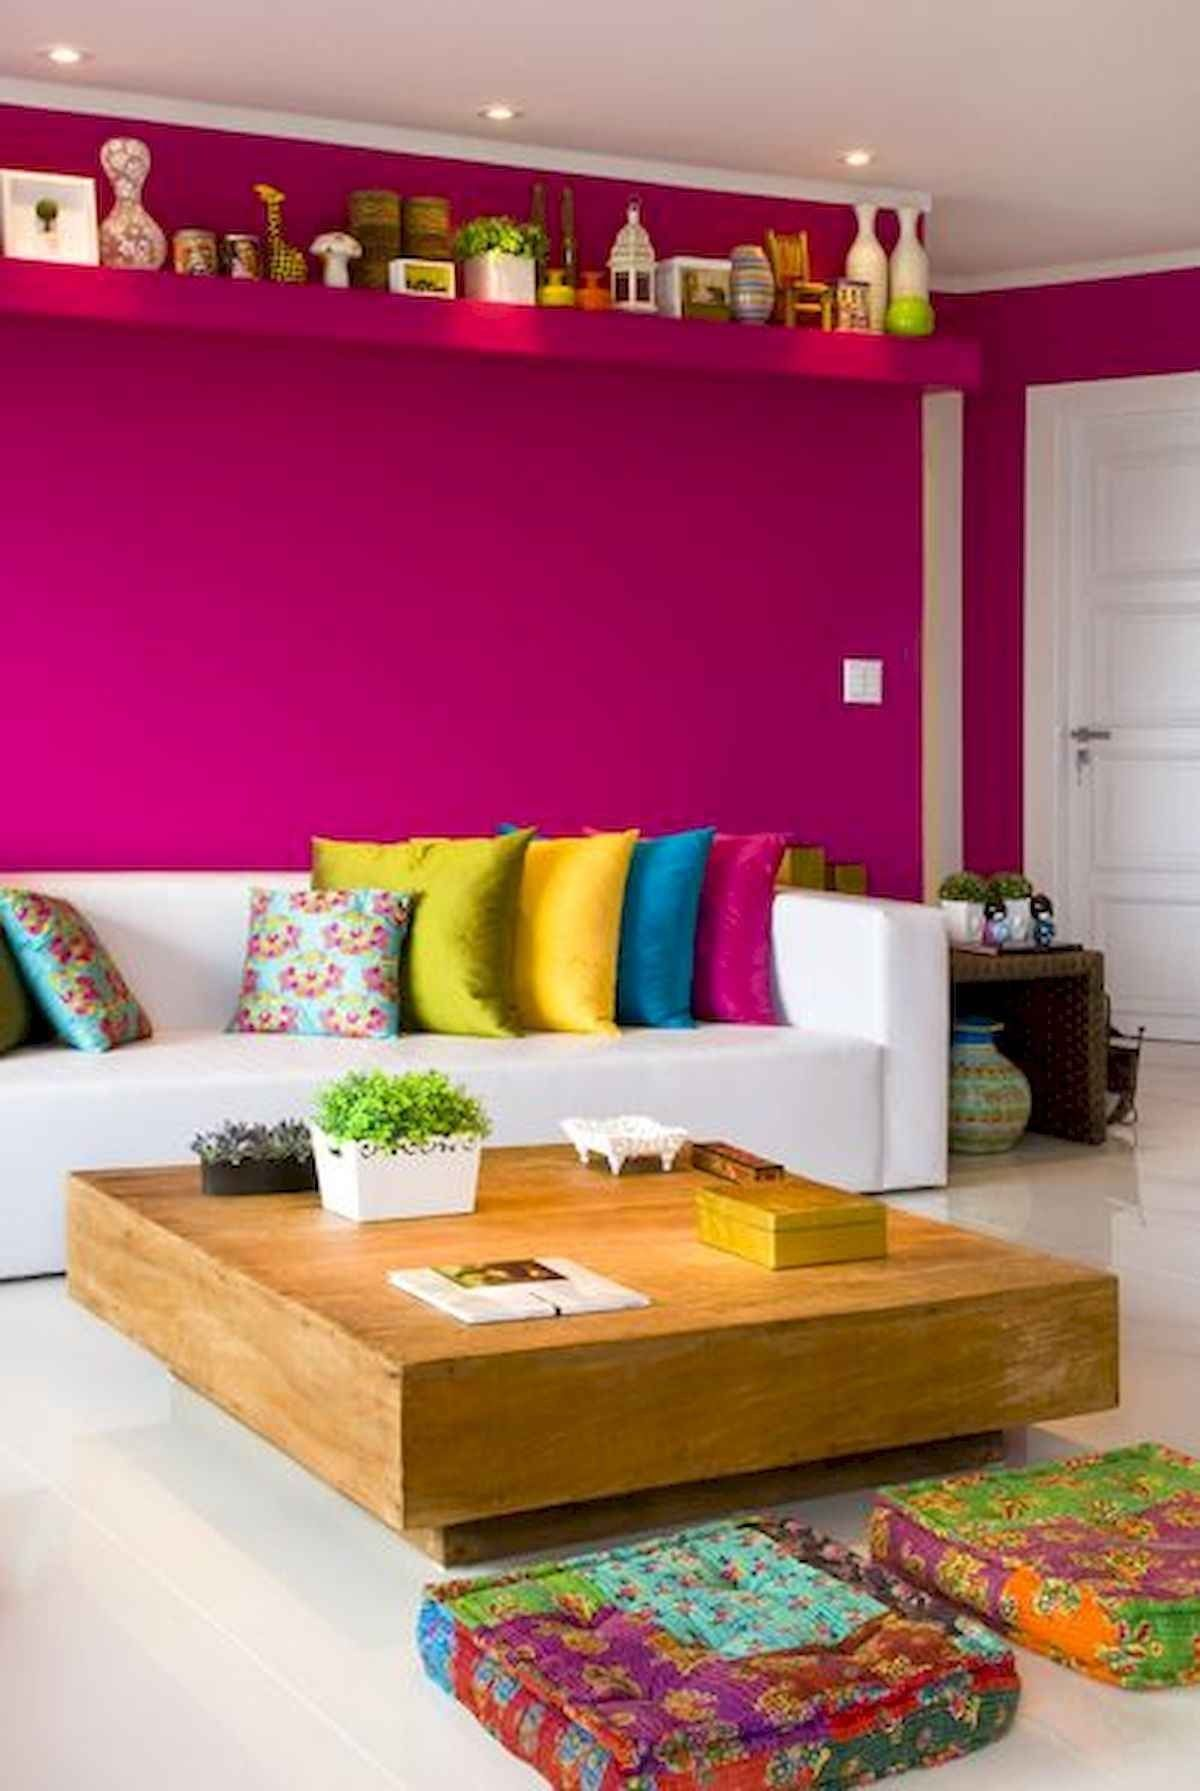biru: (616, 823, 704, 1031)
coklat: (62, 1157, 1108, 1523)
hijau: (400, 823, 517, 1033)
hitam: (202, 1159, 313, 1193)
kuning: (504, 827, 625, 1032)
putih: (1, 870, 950, 1130), (317, 1138, 483, 1221), (564, 1112, 680, 1183)
ungu: (688, 825, 785, 1029)
